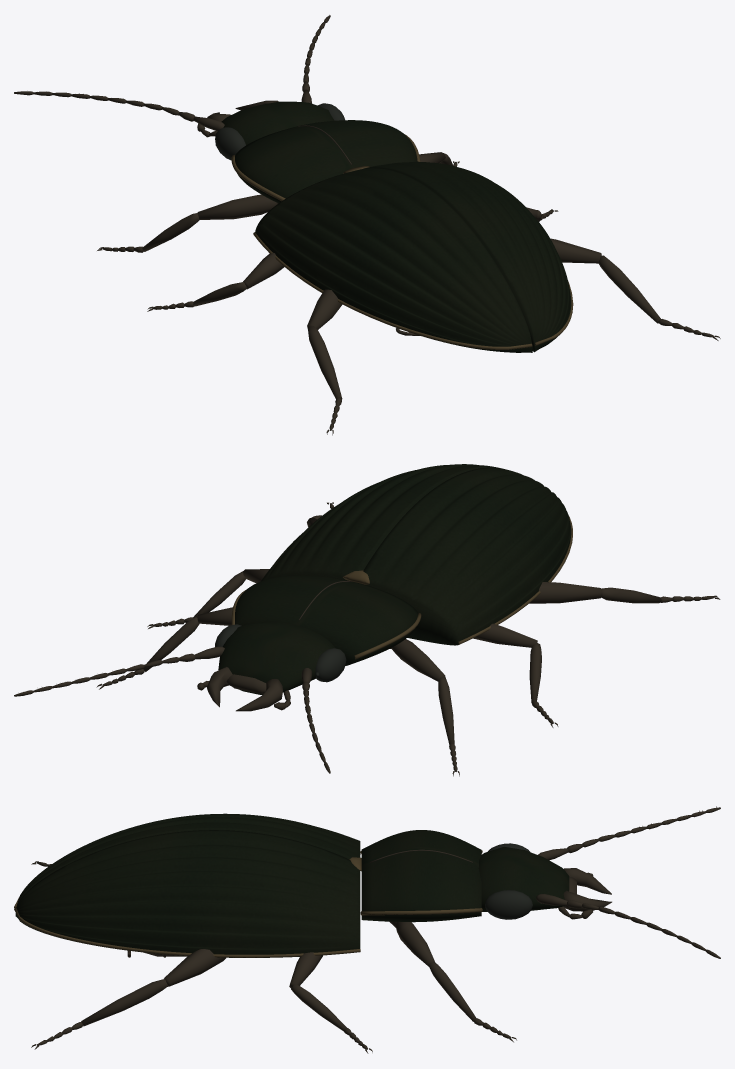
File: forest-beetle-shoreline.glb
3 renders of one model, top to bottom at view 1: azimuth 30°, elevation 25°; view 2: azimuth 150°, elevation 25°; view 3: azimuth 270°, elevation 25°, orthographic. The views are drawn at different scales.
Parts seen in each view (by area): view 1: Elytron_L, Elytron_R, Pronotum, Head, Femur_Fore_L, AntennaRestMesh_L, ElytralRim_L, Tibia_Hind_R, CompoundEye_L, Tibia_Hind_L, Femur_Hind_L, Femur_Hind_R (+2 smaller); view 2: Elytron_L, Pronotum, Elytron_R, Head, Labrum, Femur_Hind_L, AntennaRestMesh_R, CompoundEye_L, Femur_Fore_L, Femur_Mid_L, PronotalRim_L, Tibia_Hind_L (+6 smaller); view 3: Elytron_R, Pronotum, Elytron_L, Head, CompoundEye_L, ElytralRim_R, Tibia_Hind_R, Labrum, Femur_Hind_R, AntennaRestMesh_R, AntennaRestMesh_L, Femur_Fore_R (+4 smaller).
Boxes of the visible parts, bbox=[...] form: Elytron_L: bbox=[255, 168, 532, 352]; Elytron_R: bbox=[364, 161, 571, 352]; Pronotum: bbox=[235, 120, 417, 203]; Head: bbox=[221, 101, 334, 145]; Femur_Fore_L: bbox=[197, 194, 278, 219]; AntennaRestMesh_L: bbox=[14, 91, 224, 131]; ElytralRim_L: bbox=[253, 232, 532, 349]; Tibia_Hind_R: bbox=[598, 255, 660, 323]; CompoundEye_L: bbox=[215, 103, 344, 160]; Tibia_Hind_L: bbox=[308, 326, 342, 399]; Femur_Hind_L: bbox=[307, 289, 342, 329]; Femur_Hind_R: bbox=[550, 238, 601, 263]; Elytron_L: bbox=[363, 467, 571, 645]; Pronotum: bbox=[235, 575, 418, 665]; Elytron_R: bbox=[261, 464, 501, 581]; Head: bbox=[218, 621, 334, 694]; Labrum: bbox=[207, 667, 282, 711]; Femur_Hind_L: bbox=[529, 582, 601, 603]; AntennaRestMesh_R: bbox=[14, 646, 224, 696]; CompoundEye_L: bbox=[215, 624, 346, 682]; Femur_Fore_L: bbox=[390, 639, 445, 681]; Femur_Mid_L: bbox=[473, 623, 537, 647]; PronotalRim_L: bbox=[231, 570, 421, 659]; Tibia_Hind_L: bbox=[601, 587, 661, 603]; Elytron_R: bbox=[15, 830, 360, 957]; Pronotum: bbox=[361, 830, 481, 922]; Elytron_L: bbox=[16, 813, 360, 907]; Head: bbox=[478, 847, 569, 911]; CompoundEye_L: bbox=[485, 843, 532, 919]; ElytralRim_R: bbox=[14, 907, 360, 957]; Tibia_Hind_R: bbox=[81, 979, 167, 1026]; Labrum: bbox=[563, 868, 611, 911]; Femur_Hind_R: bbox=[164, 949, 225, 986]; AntennaRestMesh_R: bbox=[536, 894, 720, 958]; AntennaRestMesh_L: bbox=[538, 806, 720, 860]; Femur_Fore_R: bbox=[389, 921, 435, 966].
Size of the model in its own units: 0.0124 by 0.00376 by 0.019.
5 materials, 1 textured.
